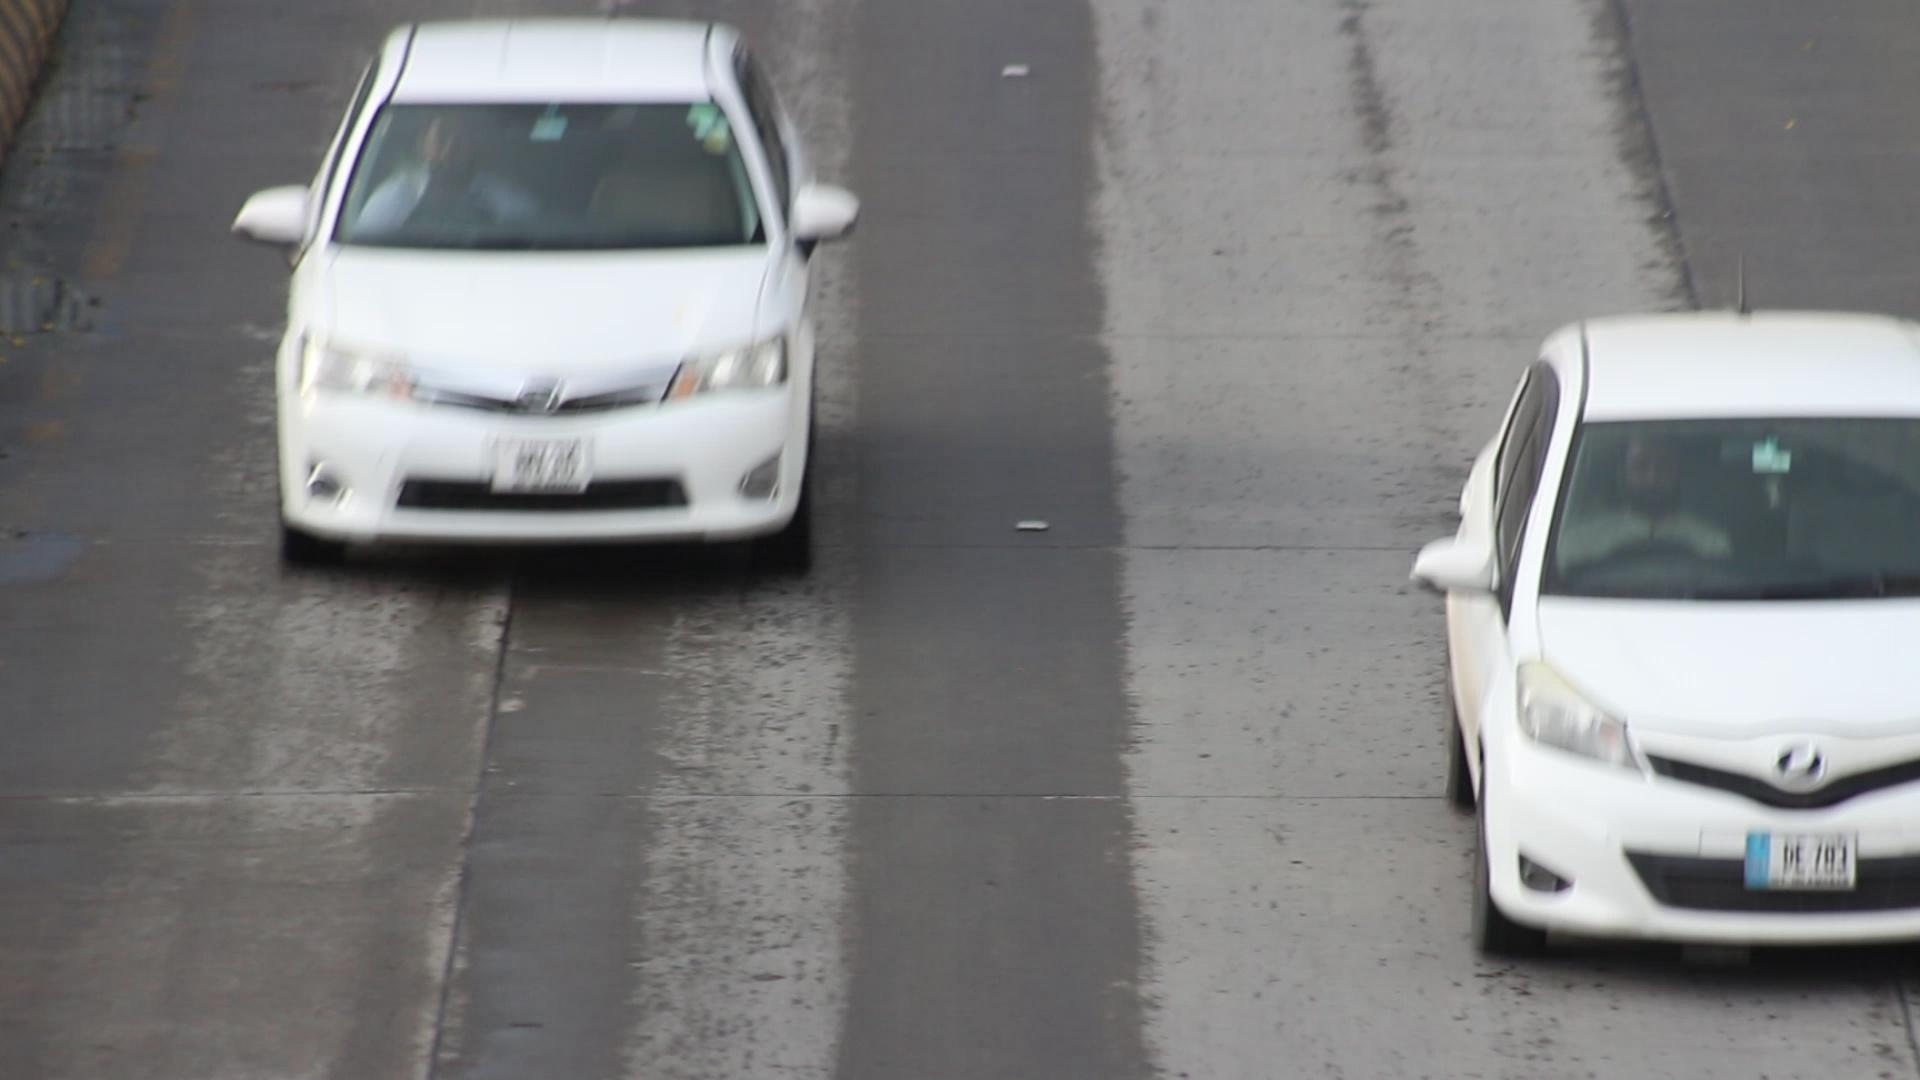windshield: (314, 76, 777, 266)
